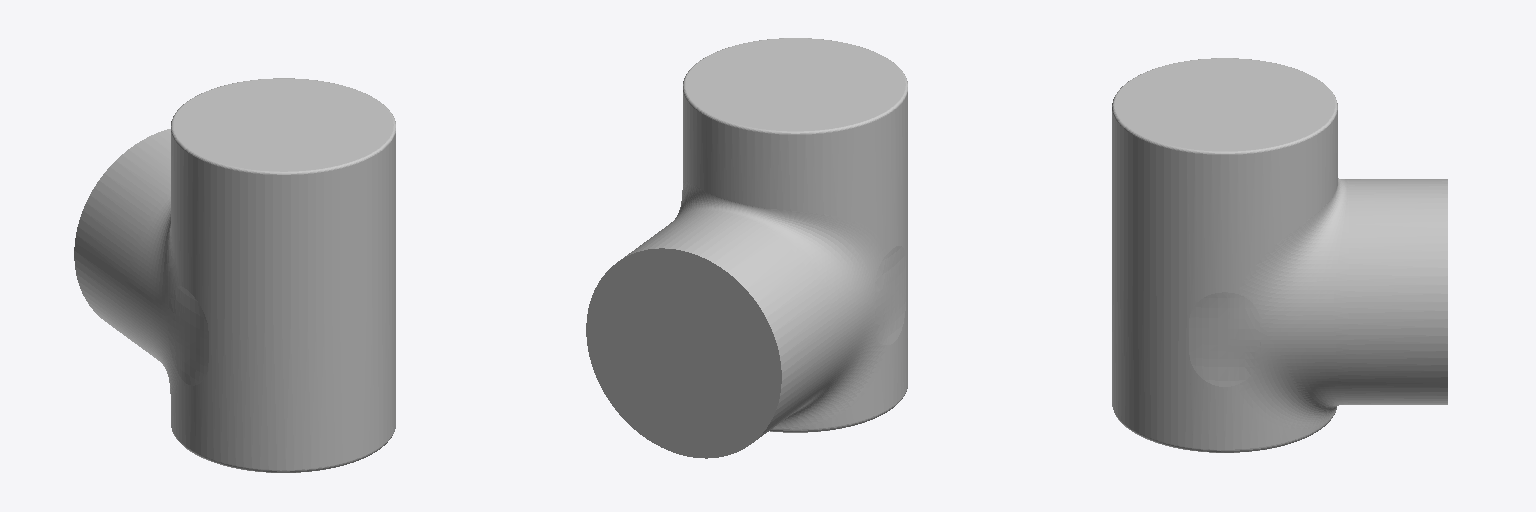
The model's file is joint6.obj.
3 renders of one model, left to right at view 1: azimuth 30°, elevation 25°; view 2: azimuth 150°, elevation 25°; view 3: azimuth 270°, elevation 25°, orthographic.
Size of the model in its own units: 0.0384 by 0.0567 by 0.0571.